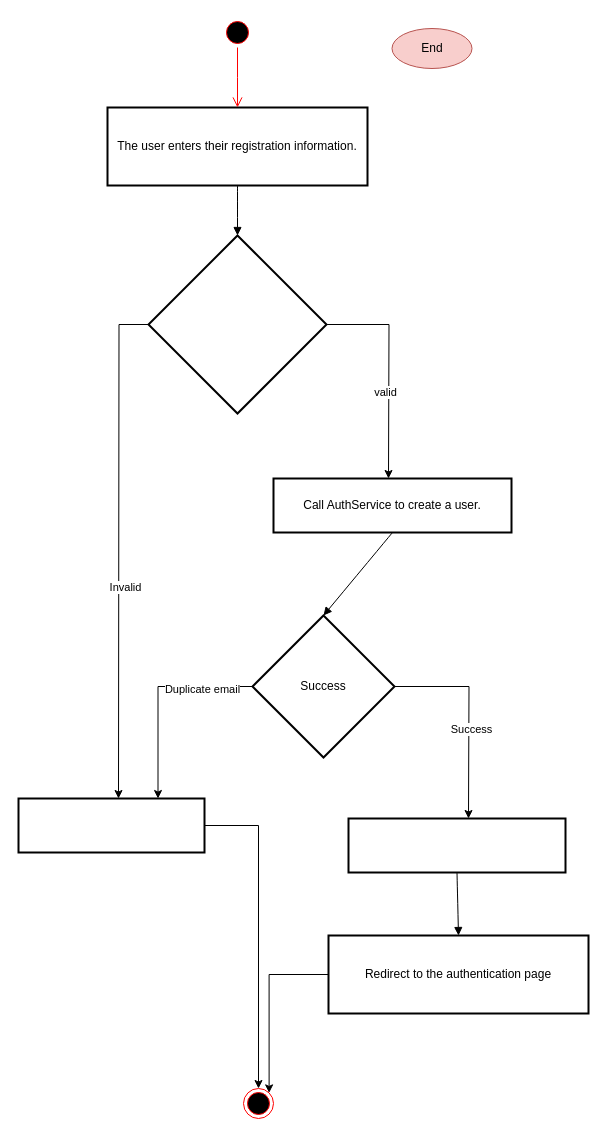
Image size: 606x1136. Some labels were removed from this diagram. Here are the shapes that lost their labels. From the top down, the centre of each, then its label:
point (237, 324): Check the data?
point (111, 825): Report an error on the form.
point (456, 845): Save Email to Session
